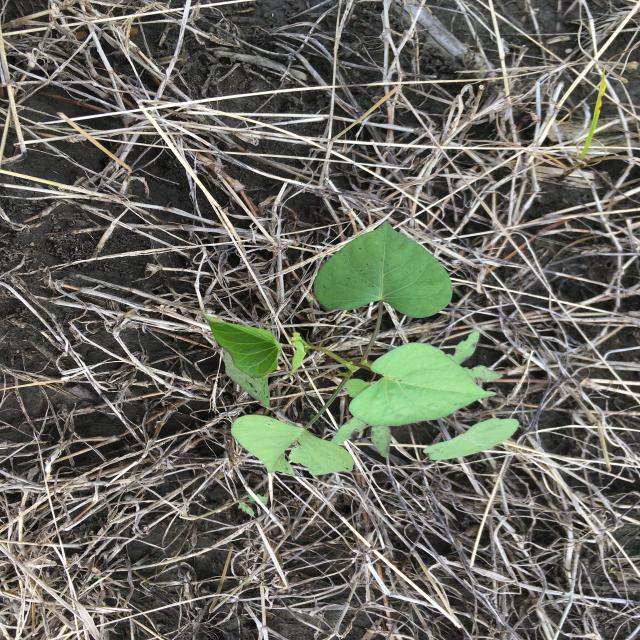MorningGlory: (198, 218, 522, 479)
